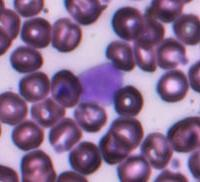L: (78, 62, 124, 104)
